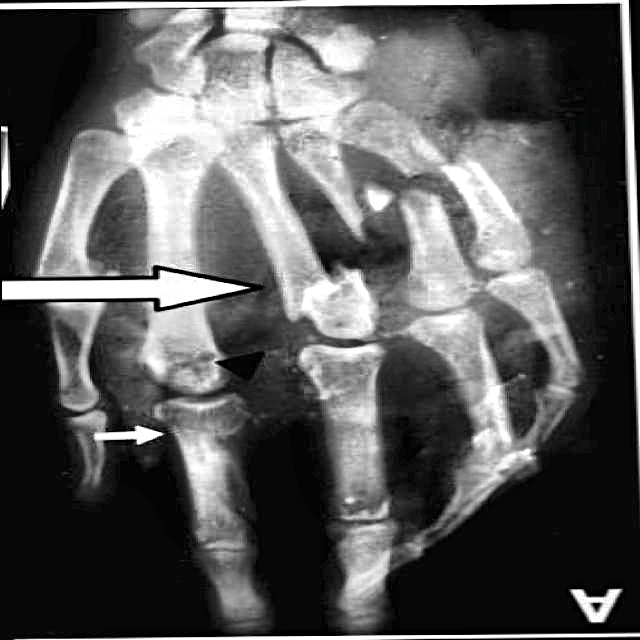Oblique Displaced: (256, 259, 381, 331)
Segmental: (308, 174, 450, 245)
Transverse Displaced: (394, 138, 499, 186)
